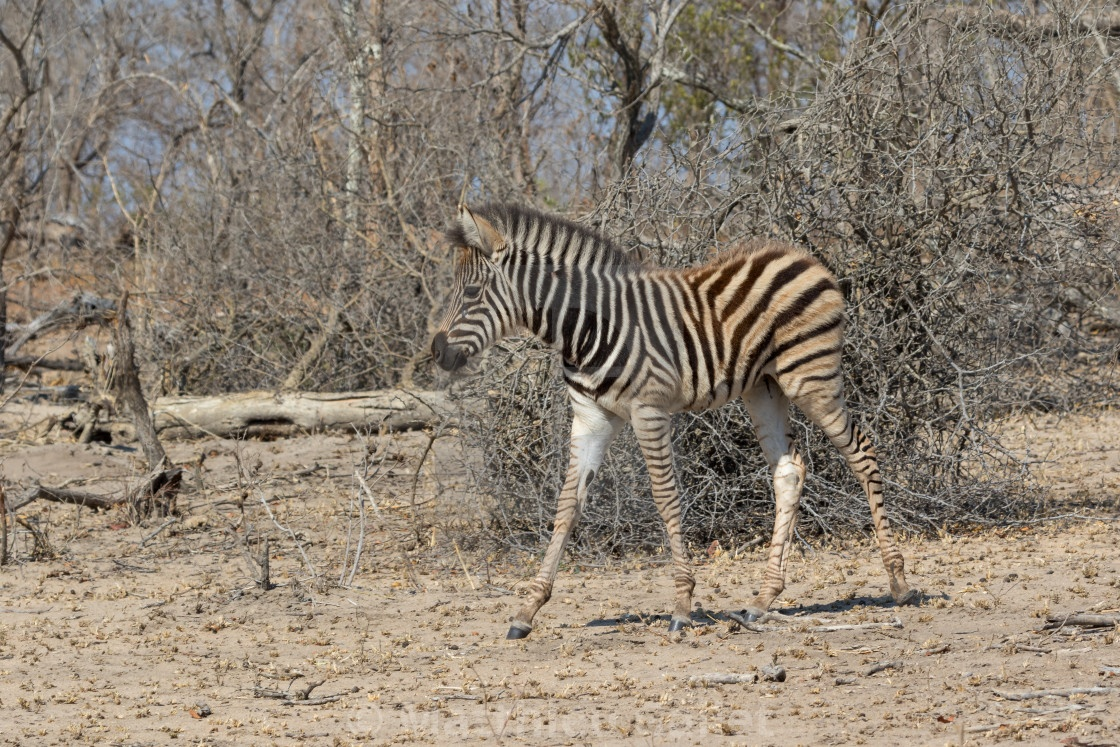zebra: (432, 197, 915, 632)
